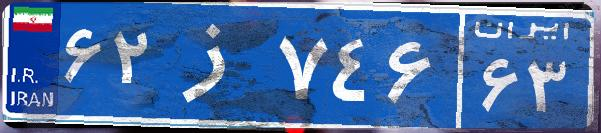2: (110, 28, 158, 105)
3: (525, 38, 570, 115)
4: (330, 28, 385, 110)
6: (385, 28, 445, 110), (57, 26, 110, 107), (475, 38, 525, 113)
7: (273, 28, 330, 110)
ز: (158, 15, 273, 115)
